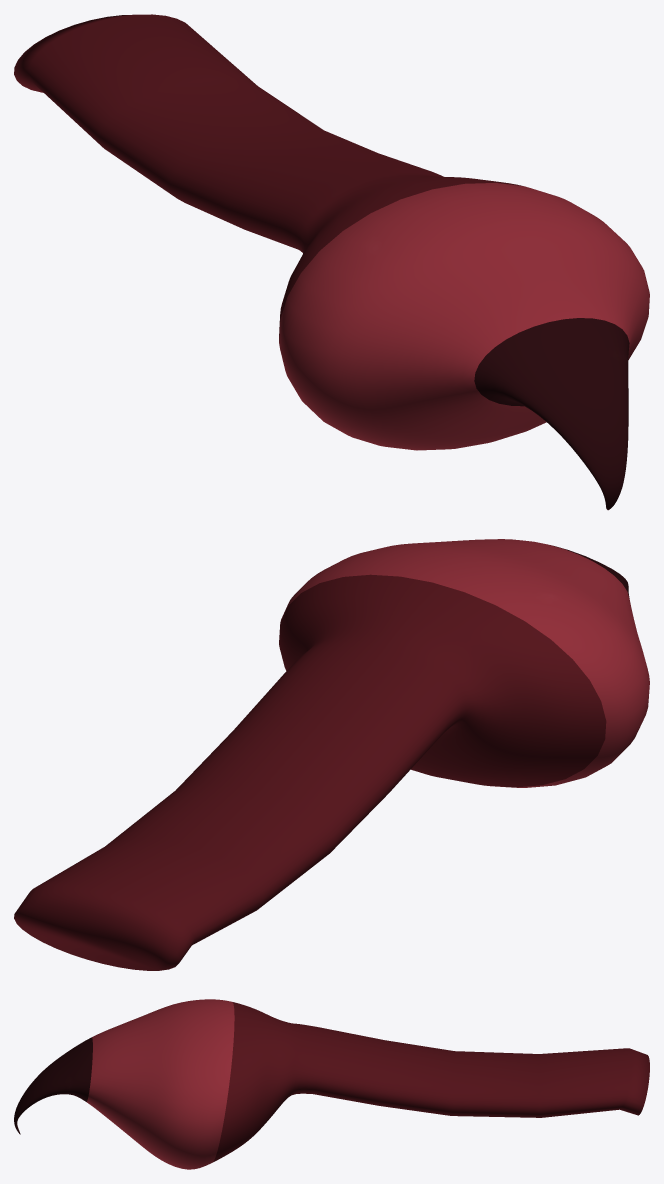
The model's file is FrogTongue.fbx.
3 views of the same model, one above another, from view 1: azimuth 30°, elevation 25°; view 2: azimuth 150°, elevation 25°; view 3: azimuth 270°, elevation 25° (orthographic). The views are drawn at different scales.
Parts seen in each view (by area): view 1: Ton.001; view 2: Ton.001; view 3: Ton.001.
Part boxes in pixels (x1,y1,x2,y2): Ton.001: (14, 14, 649, 510); Ton.001: (14, 539, 649, 970); Ton.001: (14, 999, 649, 1169).
Bounding box in the file's own units: 12.02 × 7.46 × 31.55.
